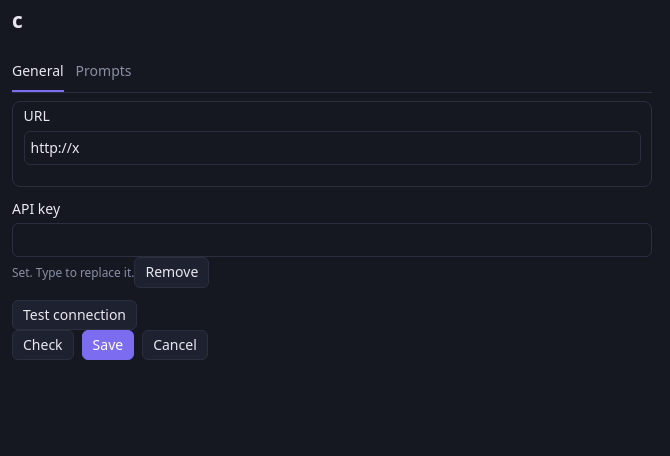
a settings button runs against the draft and shows each check
In the password field labelled "API key": (332, 240) [12,223,652,257], type "nope"
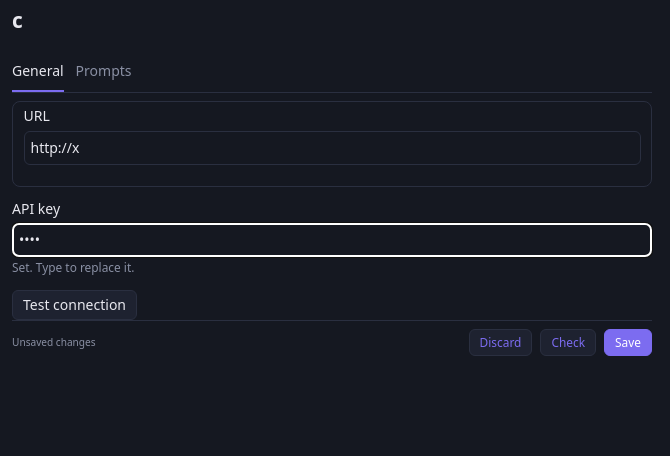
Click the button "Test connection": (74, 305) [12,290,137,320]
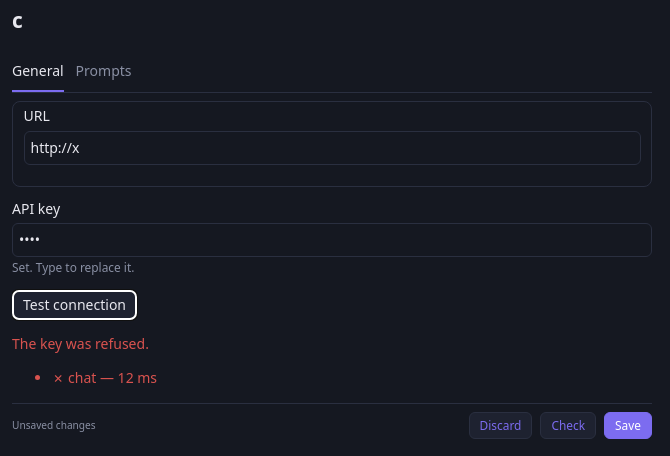
Expected: the text "The key was refused." shows "12 ms", [96,368,157,387]
Expected: the list item "✗ chat — 12 ms" is shown, [52,368,157,387]
